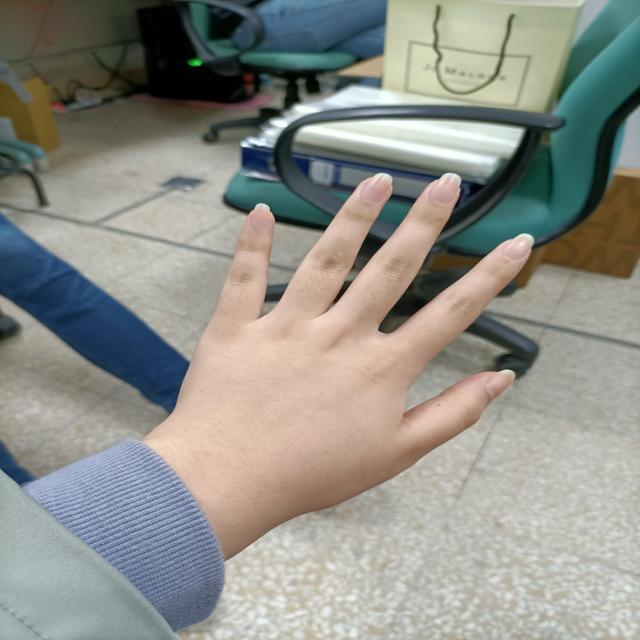Hand: (146, 168, 540, 550)
